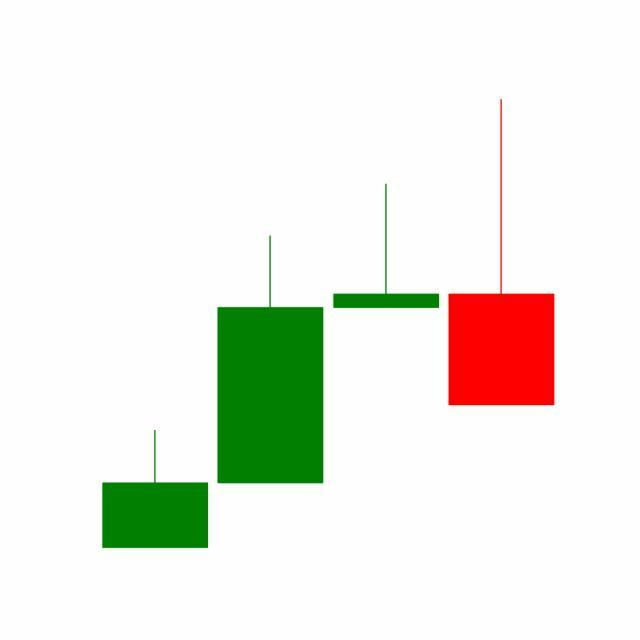Gravestone Doji: (329, 182, 445, 310)
